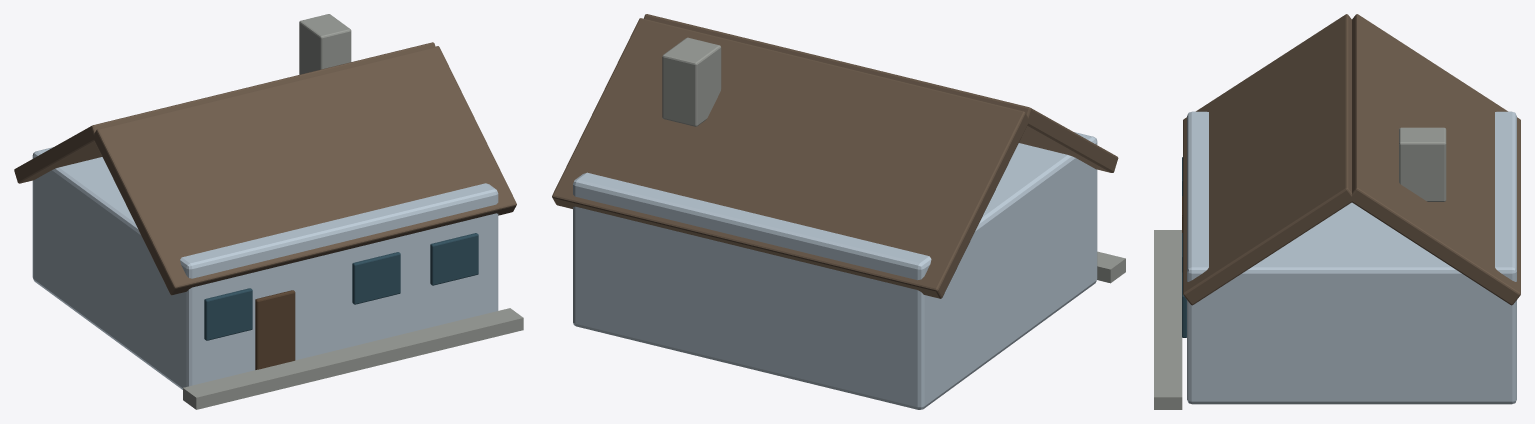
File: house_1.glb
3 renders of one model, left to right at view 1: azimuth 30°, elevation 25°; view 2: azimuth 150°, elevation 25°; view 3: azimuth 270°, elevation 25°, orthographic. The views are drawn at different scales.
Parts seen in each view (by area): view 1: Cube; view 2: Cube; view 3: Cube.
Part boxes in pixels (x1,y1,x2,y2): Cube: (14,14,523,409); Cube: (552,14,1125,409); Cube: (1154,14,1520,409).
Bounding box in the file's own units: 8.8 × 5.6 × 7.79.
